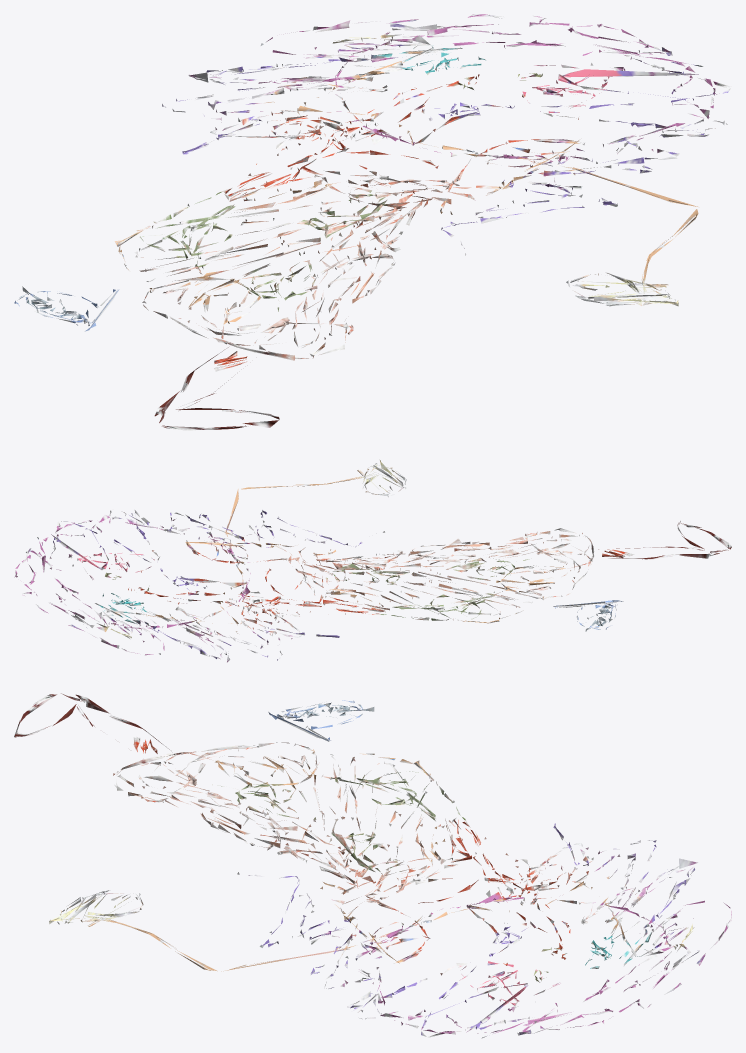
The model's file is Xiaoyun.glb.
3 renders of one model, top to bottom at view 1: azimuth 30°, elevation 25°; view 2: azimuth 150°, elevation 25°; view 3: azimuth 270°, elevation 25°, orthographic. The views are drawn at different scales.
Parts seen in each view (by area): view 1: node_id4; view 2: node_id4; view 3: node_id4.
Boxes of the visible parts, x1=… form: node_id4: x1=14, y1=14, x2=731, y2=430; node_id4: x1=14, y1=460, x2=731, y2=662; node_id4: x1=14, y1=693, x2=731, y2=1037.
Bounding box in the file's own units: 0.2546 × 0.00458 × 0.224.
1 material, 1 textured.
